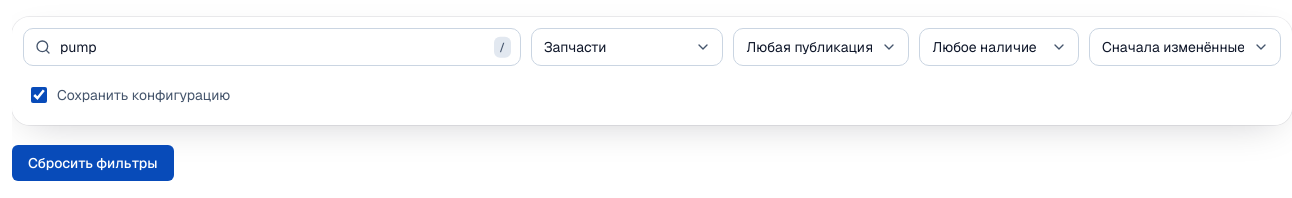
Scenario: ProductsFilterBar › resets saved filters through the empty-state action and preserves the latest search
Replace the text in the search field named "Поиск товаров" with "latest pump" at (272, 47), box x1=23 y1=28 x2=521 y2=66
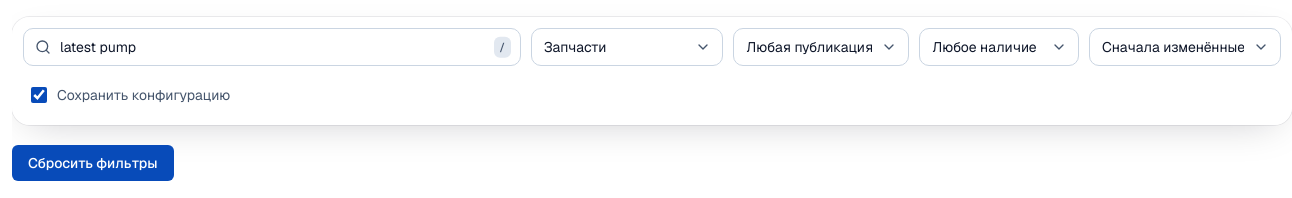
Click the button "Сбросить фильтры" at (93, 163), box x1=12 y1=145 x2=174 y2=181
Wait 300 ms
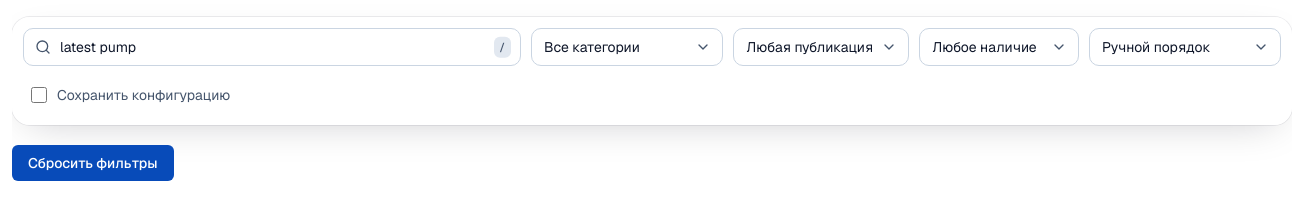
Now the checkbox labelled "Сохранить конфигурацию" is not checked, box x1=31 y1=87 x2=47 y2=103
Now the dropdown named "Фильтр по категории" shows "Все категории", box x1=531 y1=28 x2=723 y2=66
Now the dropdown named "Сортировка" shows "Ручной порядок", box x1=1089 y1=28 x2=1281 y2=66
